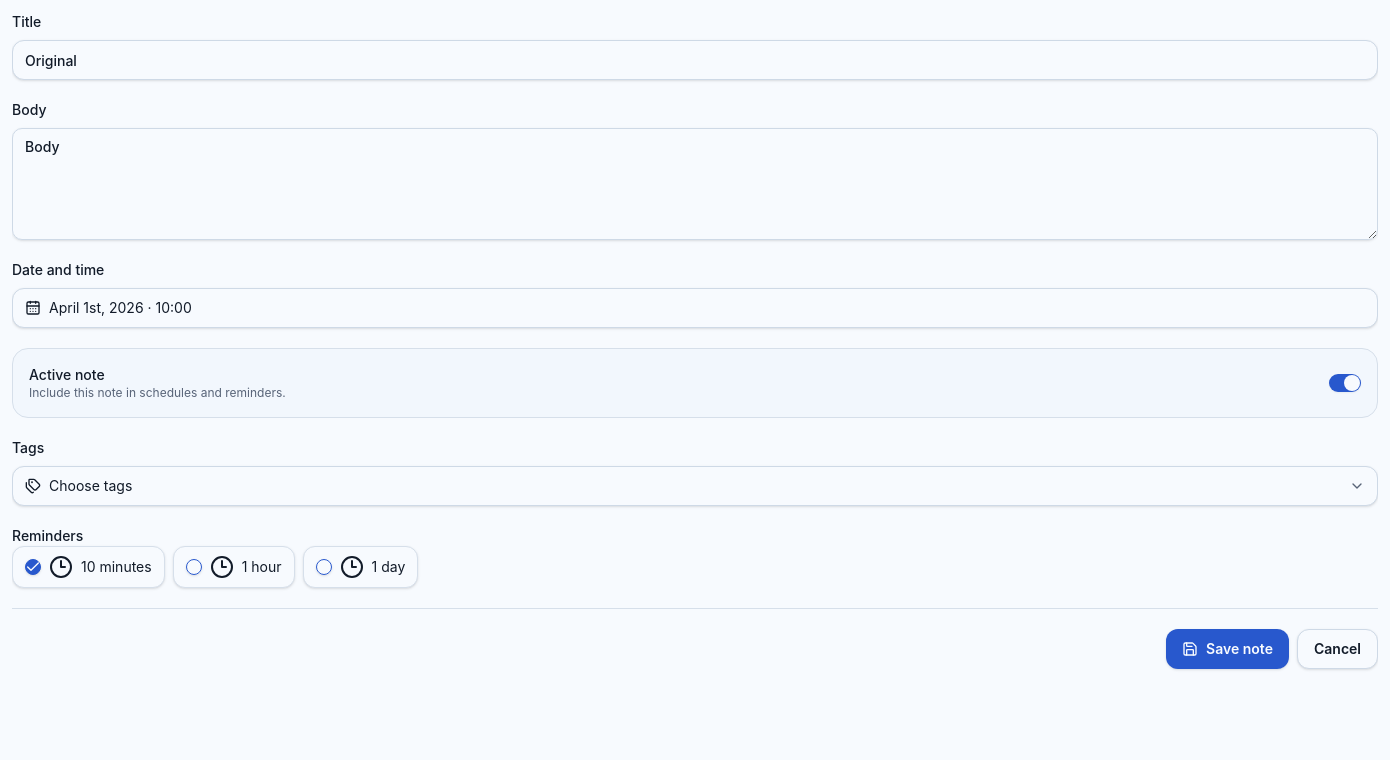
Scenario: note form › shows a 409 conflict and preserves the submitted draft
Replace the text in the field labelled "Title" with "My local draft": [695, 60] box x1=12 y1=40 x2=1378 y2=80
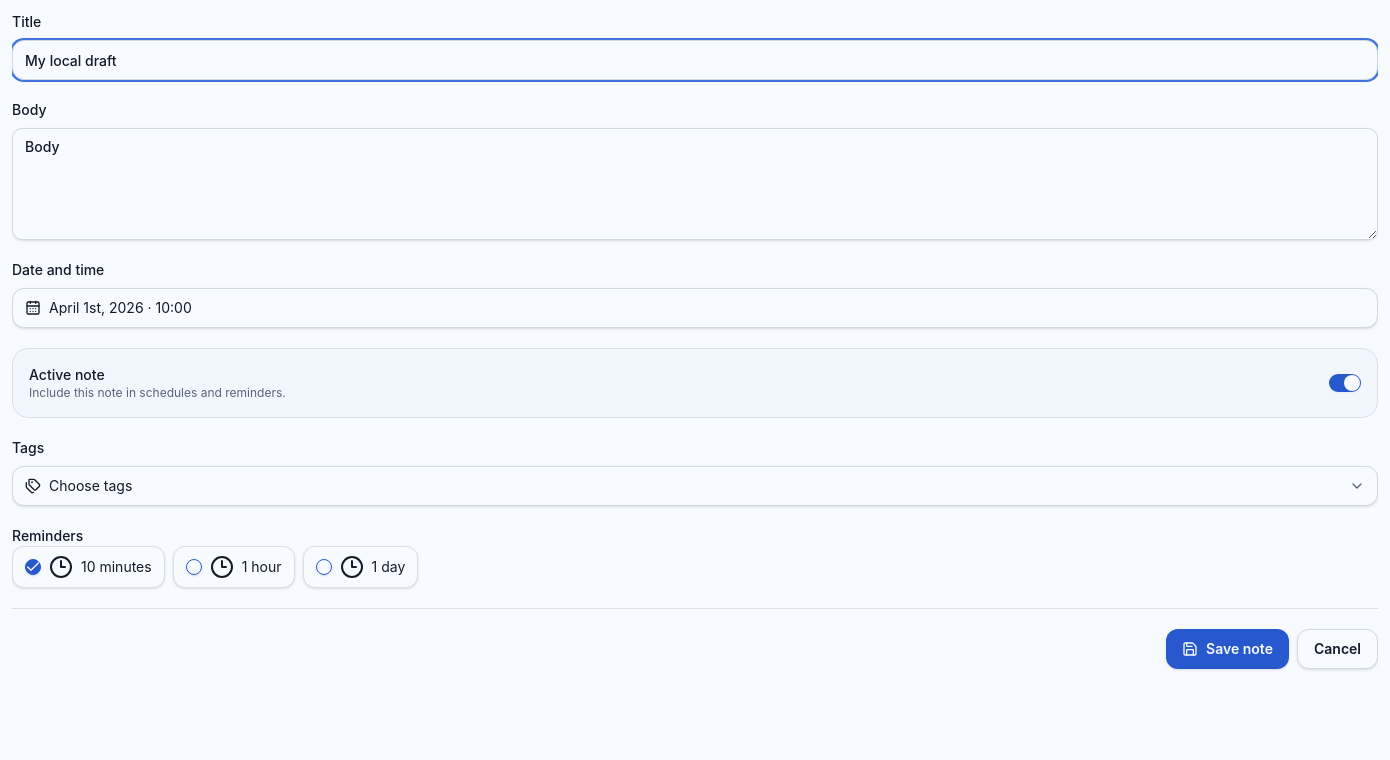
Submit the form named "Edit note"
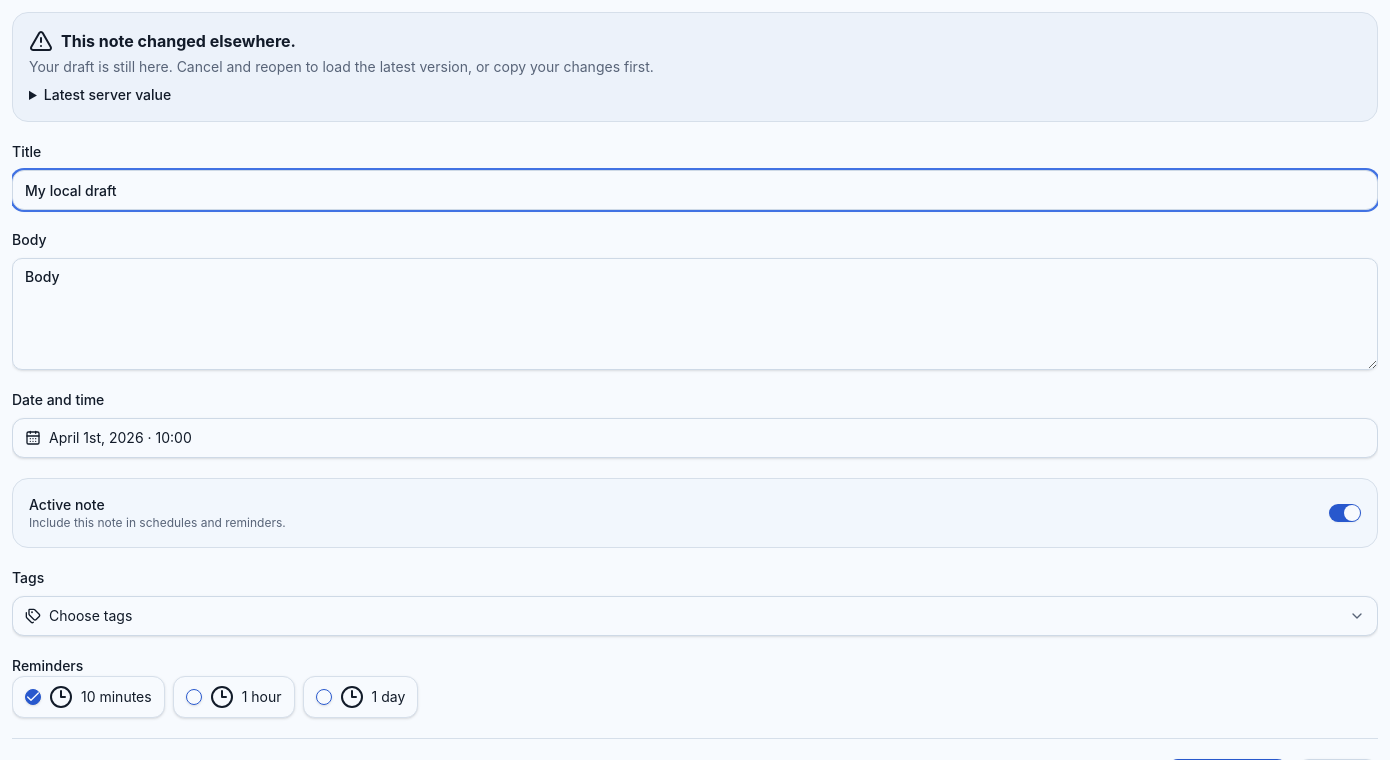
Result: the text "This note changed elsewhere." is shown at x1=29 y1=29 x2=296 y2=53
Result: the heading "Latest server value" is shown at x1=44 y1=86 x2=171 y2=103
